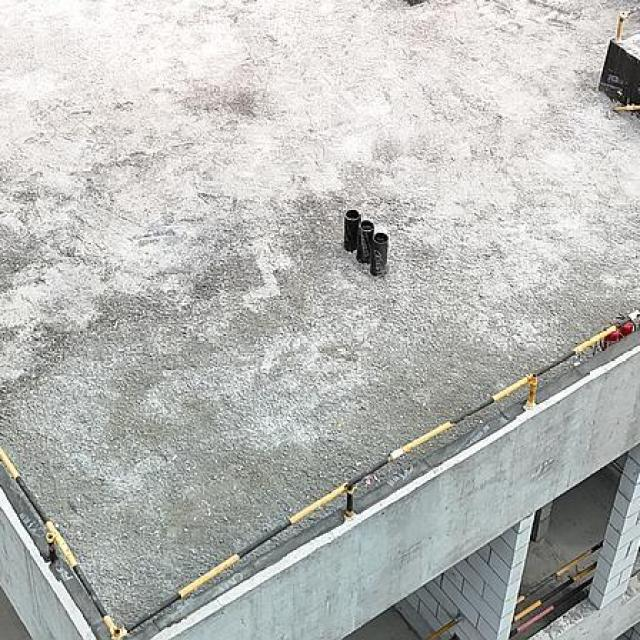edge_guardrail: (0, 304, 640, 640), (506, 537, 605, 640), (420, 611, 464, 640)
